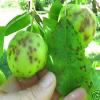Apple Scab Leaf: (46, 17, 91, 95)
